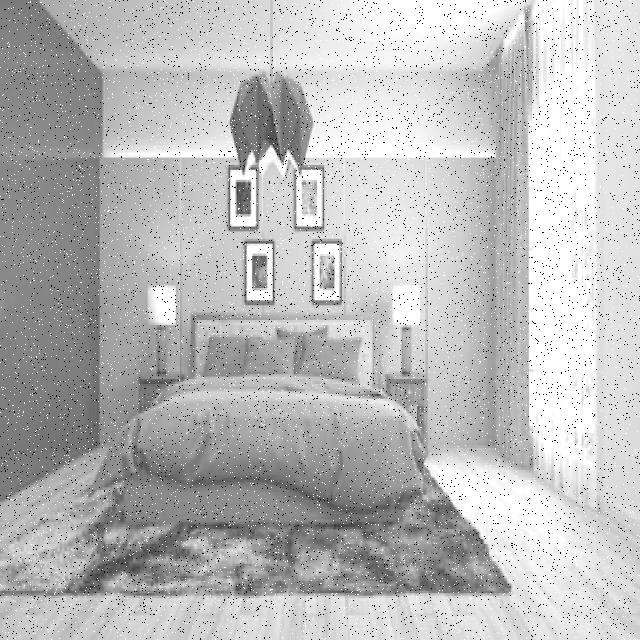bed: (124, 319, 414, 543)
